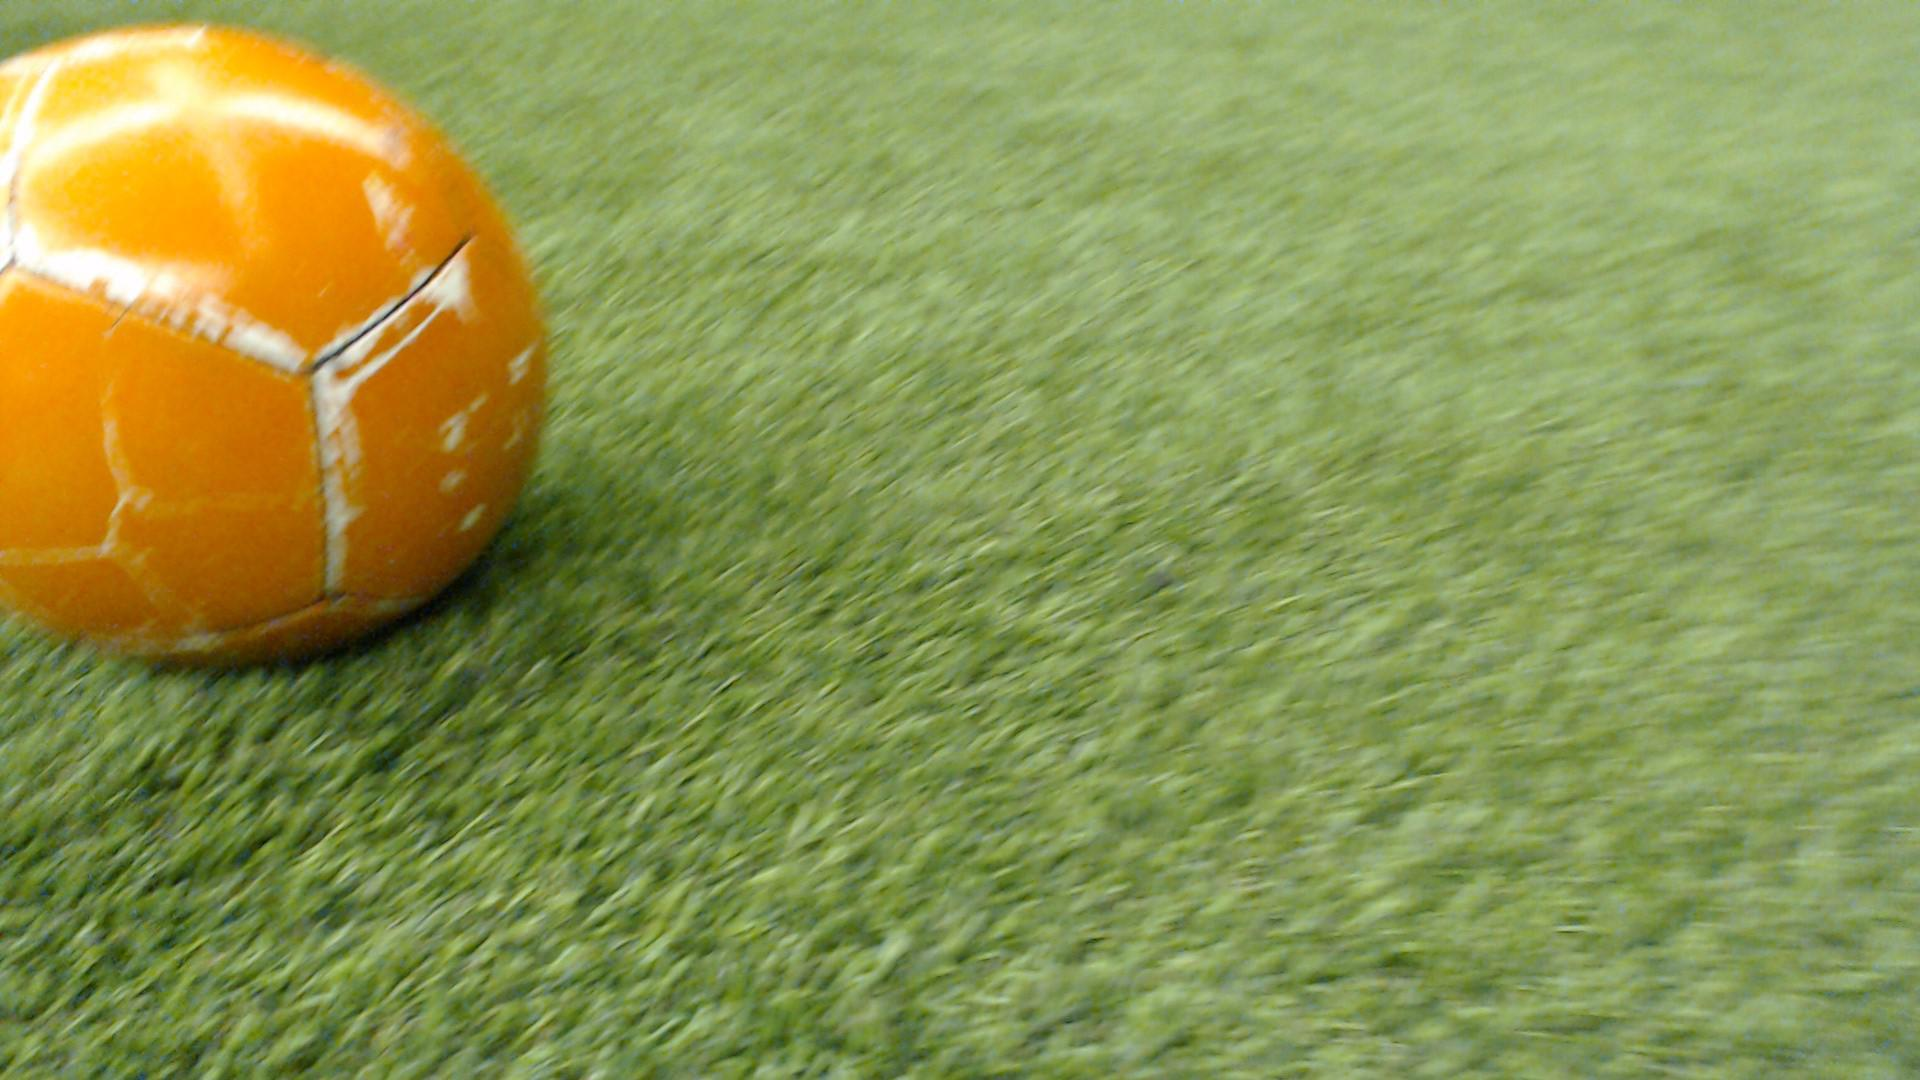bola: (0, 0, 617, 702)
